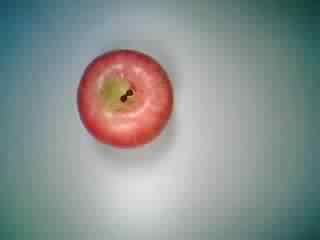apple: (72, 44, 176, 148)
